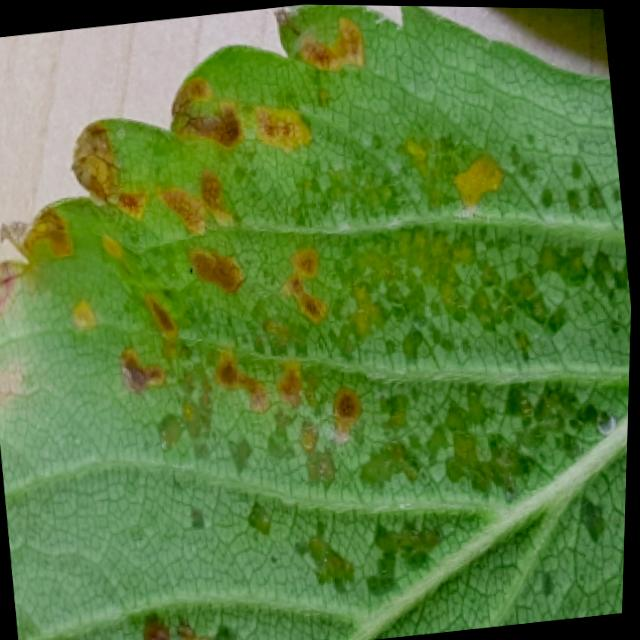Angular Leafspot: (0, 3, 633, 640)
